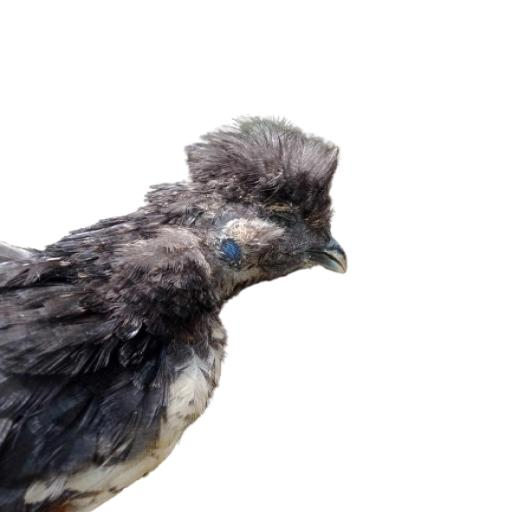disease: (168, 190, 315, 295)
